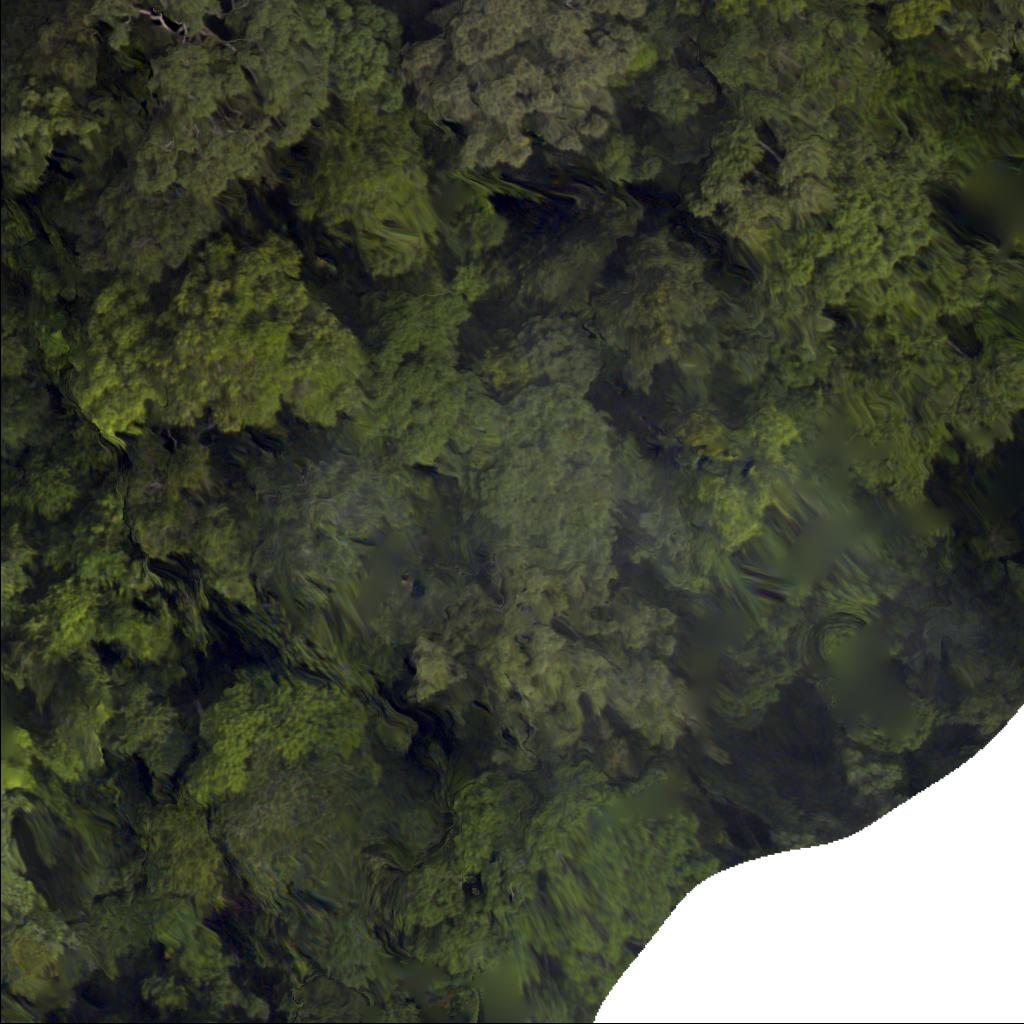crown: (89, 243, 365, 442), (417, 0, 662, 152)
